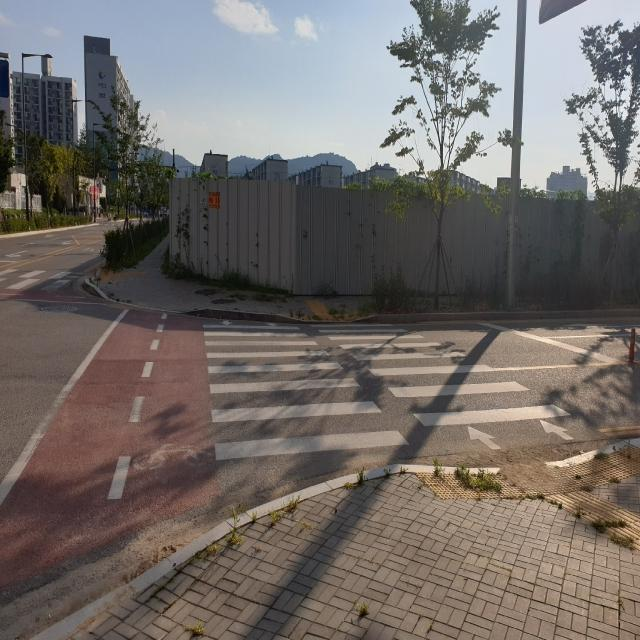횡단보도: (201, 315, 573, 468), (0, 267, 85, 299)
